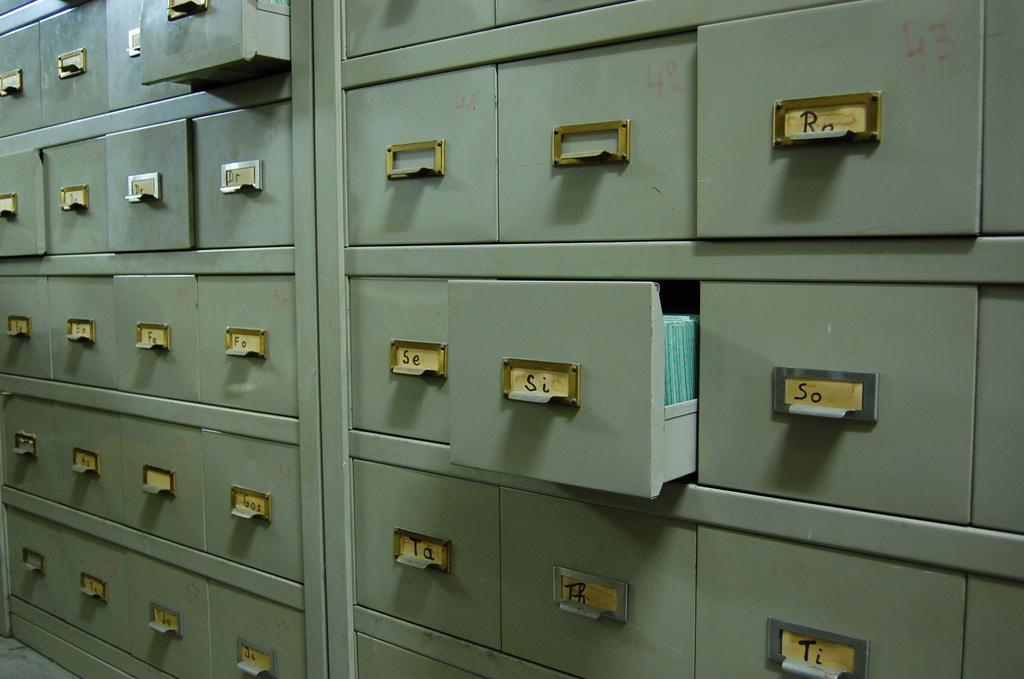cabinet_door: (708, 286, 982, 502), (696, 37, 978, 228), (449, 290, 655, 482), (492, 63, 694, 237), (492, 497, 689, 675), (702, 545, 954, 679), (348, 97, 498, 233), (358, 466, 486, 623), (344, 281, 451, 435), (198, 436, 296, 561), (198, 279, 290, 411), (198, 120, 290, 242), (107, 274, 200, 388), (103, 139, 191, 250), (129, 574, 209, 679), (115, 422, 191, 524), (214, 594, 304, 679), (61, 541, 127, 649), (48, 269, 110, 381), (146, 3, 248, 70), (44, 158, 111, 254), (342, 9, 484, 52), (54, 408, 112, 501), (42, 34, 110, 112), (2, 400, 60, 488), (4, 280, 54, 373), (11, 519, 59, 612), (2, 160, 48, 256), (3, 33, 45, 135), (107, 13, 152, 85)
handle: (778, 651, 846, 679), (788, 398, 850, 422), (558, 601, 608, 629), (786, 128, 852, 147), (558, 143, 608, 168), (502, 391, 556, 412), (225, 500, 263, 529), (392, 550, 434, 576), (386, 355, 424, 382), (125, 336, 164, 360), (140, 617, 175, 642), (222, 342, 260, 363), (386, 161, 428, 179), (66, 456, 94, 482), (238, 657, 270, 679), (136, 479, 166, 502), (14, 554, 40, 580), (10, 438, 34, 466), (76, 581, 102, 606), (65, 326, 91, 351), (56, 193, 82, 215), (54, 58, 80, 80), (7, 318, 28, 342), (219, 184, 251, 199), (125, 192, 151, 210), (0, 203, 25, 218), (0, 85, 21, 96)
